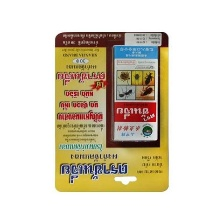book: (51, 30, 171, 194)
insecticide: (109, 42, 161, 143)
